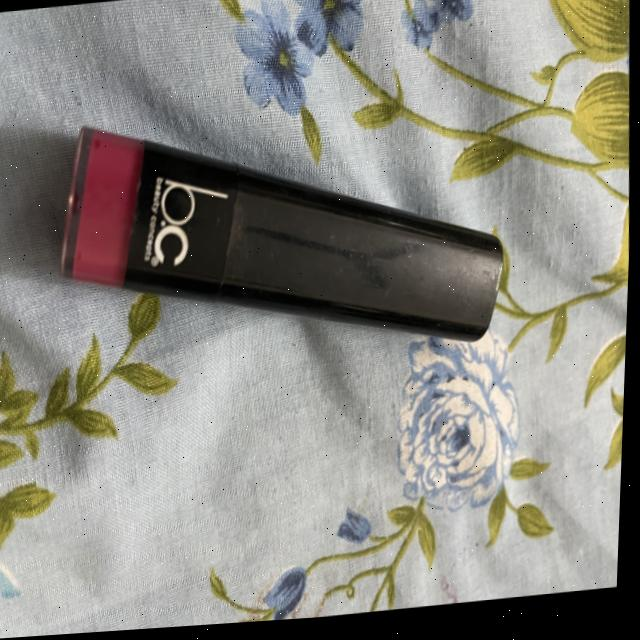lip stick: (42, 62, 532, 408)
